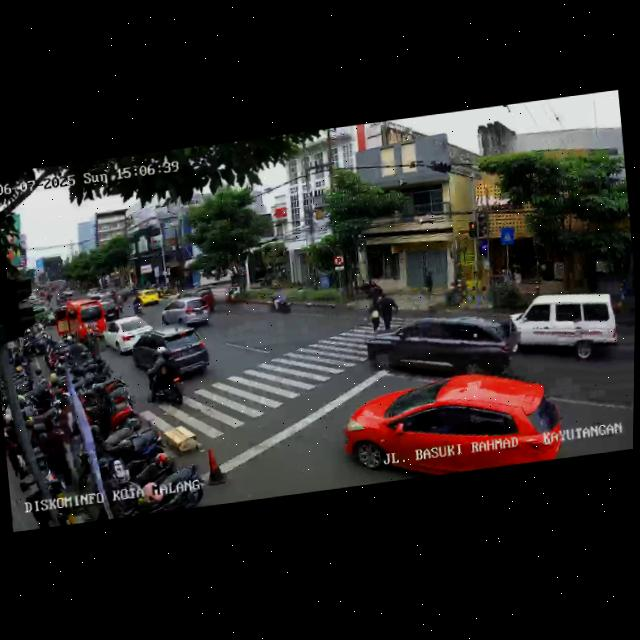car: (340, 362, 567, 487), (366, 301, 521, 391), (509, 283, 625, 371), (129, 318, 215, 388), (53, 296, 108, 348), (102, 313, 154, 356), (159, 292, 212, 332), (176, 285, 217, 316), (132, 286, 160, 310), (98, 298, 121, 322)
motorcycle: (143, 343, 187, 409), (273, 288, 294, 318), (130, 295, 145, 314)
person: (378, 290, 396, 330), (368, 294, 384, 332)
